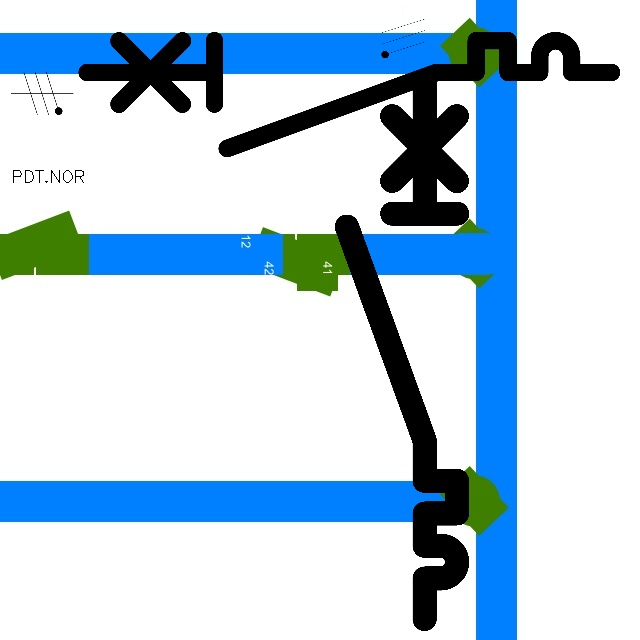interruptor_termomagnetico: (333, 69, 471, 632), (73, 27, 625, 162)
